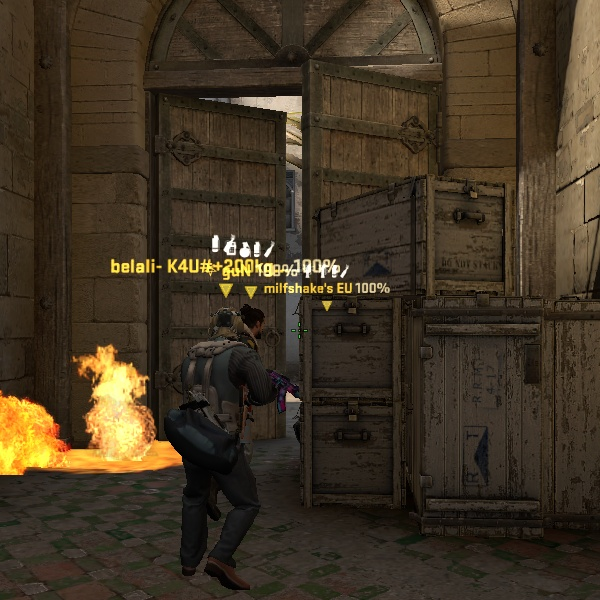t_body: (157, 298, 301, 589)
t_head: (211, 300, 268, 356)
